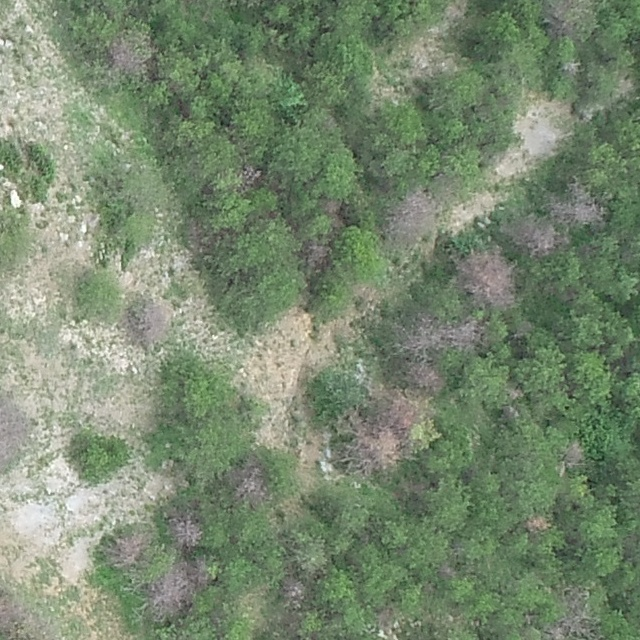unhealthy: (334, 404, 401, 471), (458, 249, 517, 307), (384, 186, 440, 241), (147, 562, 197, 618), (543, 0, 598, 43), (551, 188, 607, 227), (510, 217, 561, 257), (132, 297, 175, 342), (0, 401, 28, 469), (378, 391, 425, 429), (400, 316, 447, 354), (106, 36, 149, 75), (544, 608, 596, 639), (229, 461, 267, 502), (110, 531, 153, 567), (168, 514, 204, 549), (448, 316, 486, 348), (405, 361, 443, 393), (0, 594, 28, 630), (303, 240, 331, 270), (281, 575, 306, 605), (562, 438, 586, 469), (524, 512, 552, 535), (239, 165, 263, 189), (321, 198, 342, 217), (507, 385, 524, 402), (437, 563, 454, 580)
